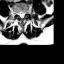CCS_normal: (21, 10, 23, 20)
LFS_normal: (25, 8, 27, 16)
LLS_normal: (23, 10, 25, 19)
RFS_normal: (16, 9, 18, 17)
RLS_normal: (18, 10, 21, 19)
